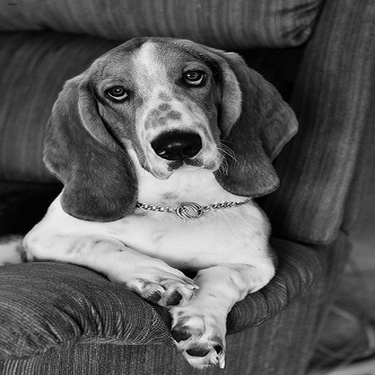dog: (1, 31, 300, 371)
